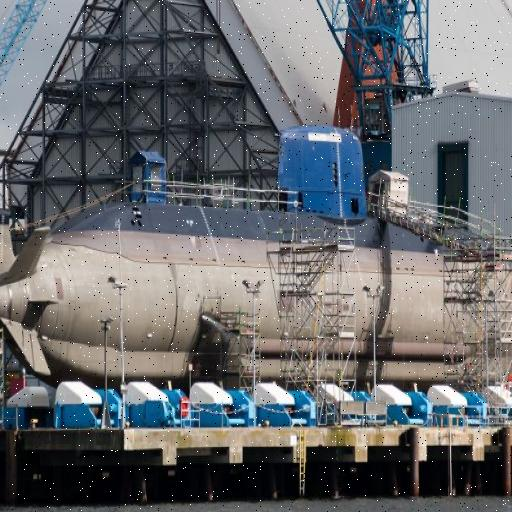submarine: (1, 198, 512, 367)
